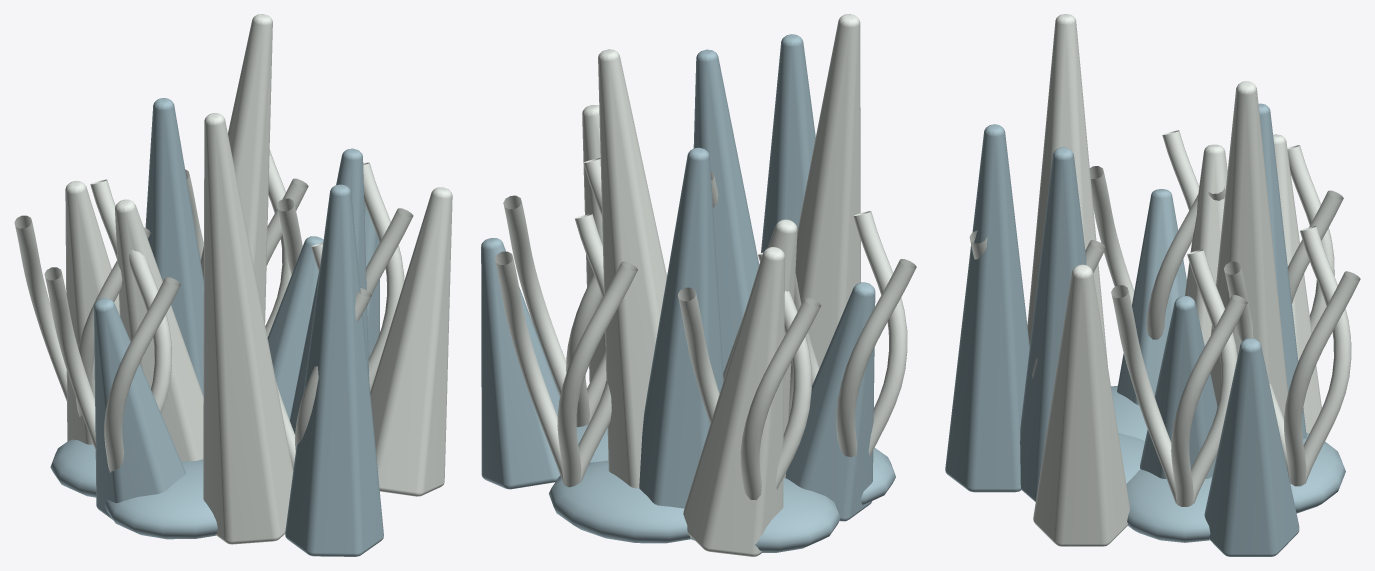
Rendered from bio_crystal_fan_14_near.glb.
The picture shows the model from 3 angles, left to right: view 1: azimuth 30°, elevation 25°; view 2: azimuth 150°, elevation 25°; view 3: azimuth 270°, elevation 25°; orthographic projection. The views are drawn at different scales.
Parts seen in each view (by area): view 1: Reflecting mineral prism.007, Reflecting mineral prism.002, Reflecting mineral prism.005, Reflecting mineral prism.004, Reflecting mineral prism.006, Spiral filament.012, Reflecting mineral prism.003, Reflecting mineral prism.009, Mineral substrate, Reflecting mineral prism.001, Spiral filament, Spiral filament.003 (+5 smaller); view 2: Reflecting mineral prism.003, Reflecting mineral prism.006, Reflecting mineral prism.001, Reflecting mineral prism.007, Mineral substrate, Reflecting mineral prism.008, Spiral filament.009, Reflecting mineral prism.004, Reflecting mineral prism.010, Spiral filament.003, Spiral filament.012, Reflecting mineral prism.002 (+3 smaller); view 3: Reflecting mineral prism.002, Reflecting mineral prism.005, Reflecting mineral prism.008, Reflecting mineral prism.003, Spiral filament, Reflecting mineral prism.010, Spiral filament.009, Mineral substrate, Reflecting mineral prism.007, Spiral filament.012, Reflecting mineral prism, Reflecting mineral prism.004 (+5 smaller).
Part boxes in pixels (x1,y1,x2,y2): Reflecting mineral prism.007: [203, 113, 293, 544]; Reflecting mineral prism.002: [285, 184, 383, 556]; Reflecting mineral prism.005: [370, 187, 452, 496]; Reflecting mineral prism.004: [94, 298, 185, 520]; Reflecting mineral prism.006: [145, 98, 203, 395]; Spiral filament.012: [44, 250, 180, 472]; Reflecting mineral prism.003: [200, 14, 272, 370]; Reflecting mineral prism.009: [115, 199, 203, 461]; Mineral substrate: [50, 439, 217, 539]; Reflecting mineral prism.001: [65, 181, 119, 444]; Spiral filament: [277, 162, 413, 391]; Spiral filament.003: [14, 179, 150, 416]; Reflecting mineral prism.003: [598, 49, 666, 488]; Reflecting mineral prism.006: [639, 147, 723, 508]; Reflecting mineral prism.001: [683, 247, 784, 556]; Reflecting mineral prism.007: [788, 14, 860, 418]; Mineral substrate: [548, 424, 895, 552]; Reflecting mineral prism.008: [481, 238, 560, 489]; Spiral filament.009: [494, 213, 637, 487]; Reflecting mineral prism.004: [785, 282, 875, 521]; Reflecting mineral prism.010: [693, 49, 759, 372]; Spiral filament.003: [678, 252, 821, 500]; Spiral filament.012: [794, 211, 916, 457]; Reflecting mineral prism.002: [761, 34, 815, 252]; Reflecting mineral prism.002: [945, 124, 1029, 492]; Reflecting mineral prism.005: [1033, 264, 1129, 546]; Reflecting mineral prism.008: [1204, 338, 1299, 556]; Reflecting mineral prism.003: [1210, 81, 1287, 418]; Spiral filament: [1111, 249, 1247, 506]; Reflecting mineral prism.010: [1020, 147, 1086, 501]; Spiral filament.009: [1224, 226, 1360, 486]; Mineral substrate: [1111, 385, 1345, 542]; Reflecting mineral prism.007: [1027, 14, 1107, 365]; Spiral filament.012: [1089, 130, 1199, 339]; Reflecting mineral prism: [1140, 296, 1217, 478]; Reflecting mineral prism.004: [1117, 189, 1186, 404].
Bounding box in the file's own units: 1.66 × 1.85 × 1.61.
